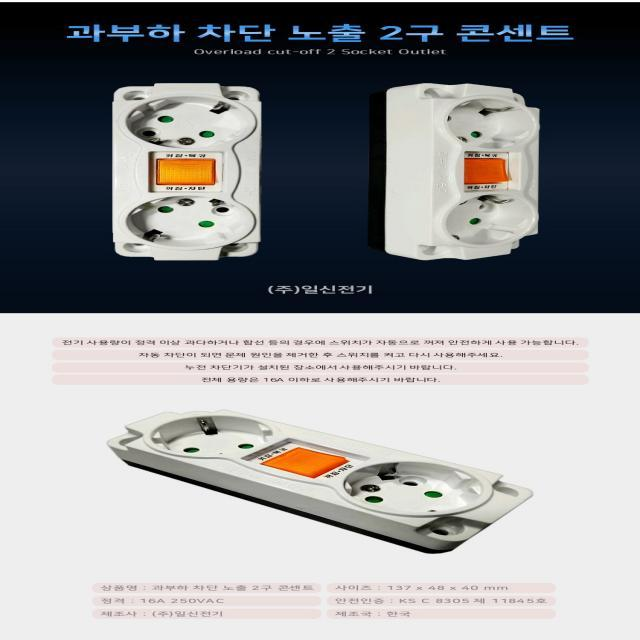typeb: (82, 400, 564, 561), (62, 71, 294, 269), (368, 73, 586, 265)
